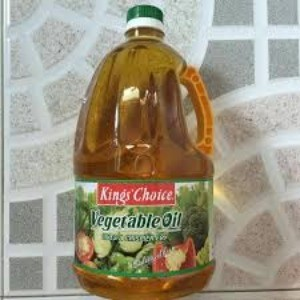vegetable oil_brain food: (81, 83, 204, 276)
